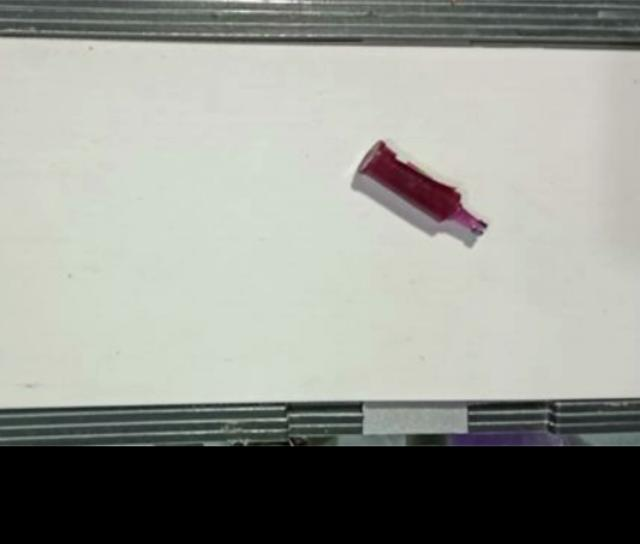Plastik: (356, 139, 489, 235)
